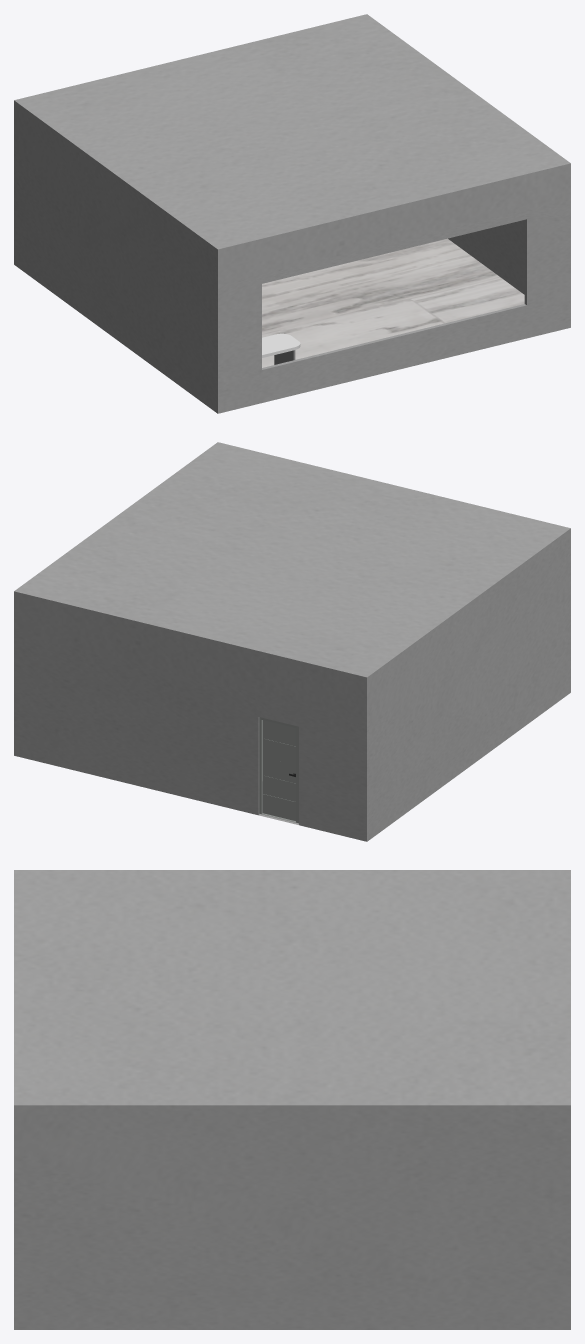
File: indigoenvieronment.fbx
The picture shows the model from 3 angles, top to bottom: view 1: azimuth 30°, elevation 25°; view 2: azimuth 150°, elevation 25°; view 3: azimuth 270°, elevation 25°; orthographic projection. The views are drawn at different scales.
Parts seen in each view (by area): view 1: Room, Table; view 2: Room, Door; view 3: Room.
Part boxes in pixels (bbox=[...]): Room: bbox=[14, 14, 570, 413]; Table: bbox=[262, 333, 300, 364]; Room: bbox=[14, 442, 570, 841]; Door: bbox=[259, 717, 298, 823]; Room: bbox=[14, 870, 570, 1329].
Bounding box in the file's own units: 1000 × 445 × 1000.
